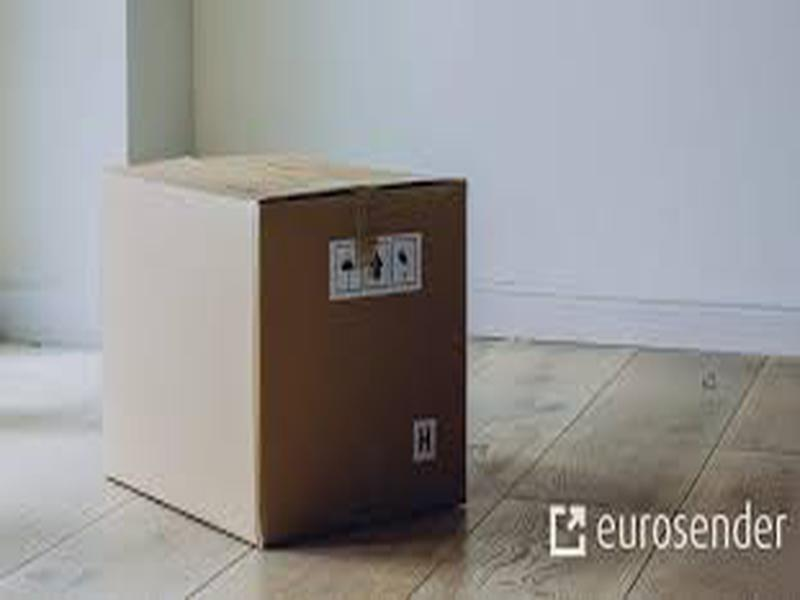package: (86, 129, 485, 559)
